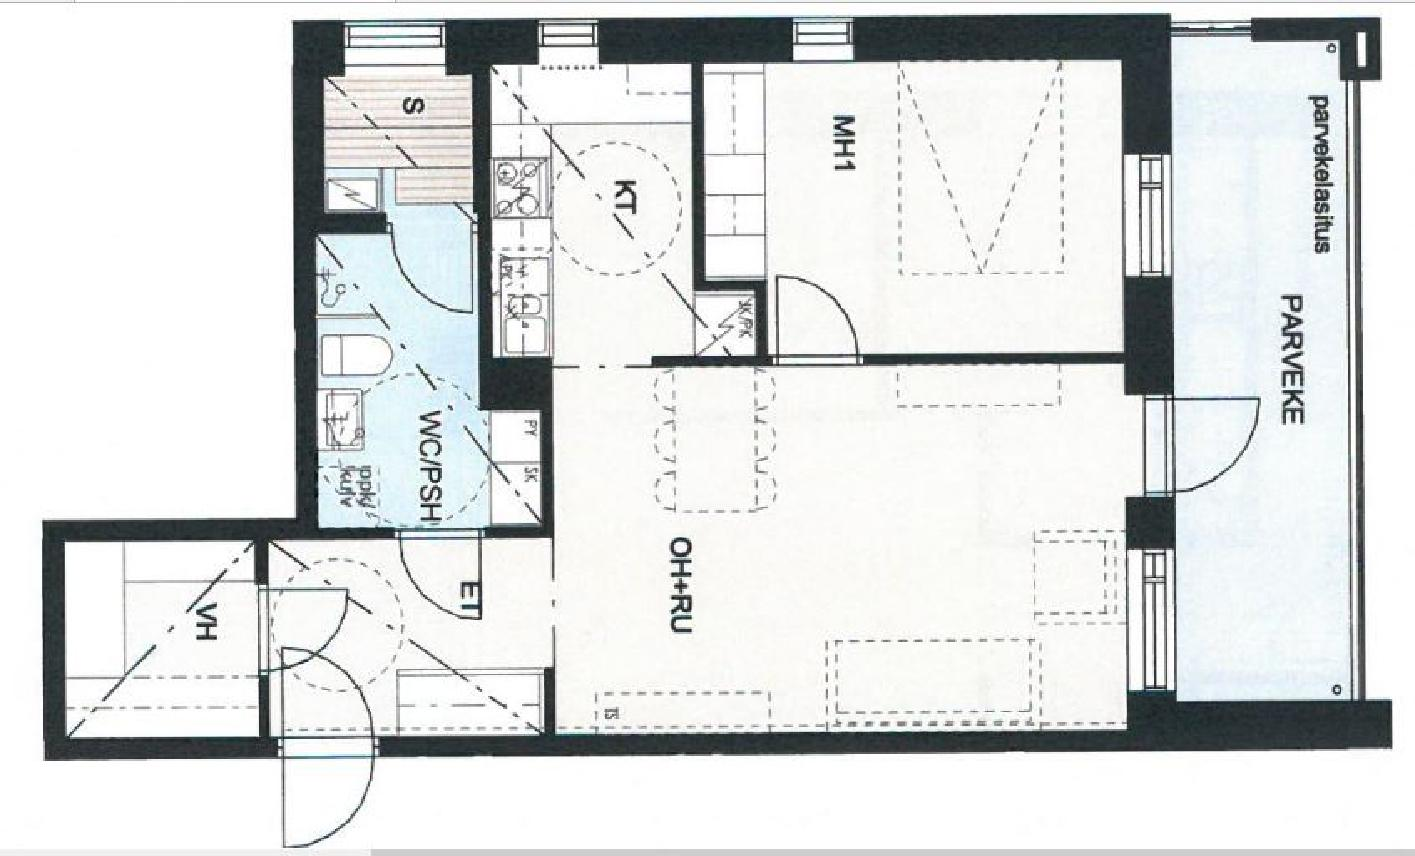door: (275, 645, 377, 850), (1137, 394, 1272, 499), (246, 585, 357, 679), (774, 272, 864, 375), (387, 222, 476, 322)
window: (1141, 549, 1174, 691), (1139, 152, 1166, 276), (344, 21, 443, 51), (798, 19, 857, 46), (541, 22, 597, 50)
zone: (554, 363, 1131, 737), (1167, 30, 1359, 701), (759, 60, 1125, 351), (488, 64, 759, 352), (326, 78, 489, 527), (265, 542, 549, 733), (62, 542, 258, 736), (488, 403, 545, 528)
